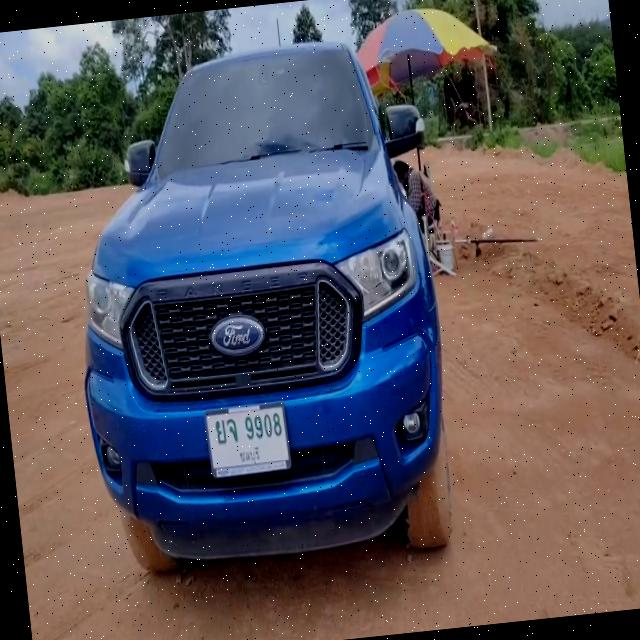Digit: (244, 408, 284, 443)
Licenseplate: (204, 401, 292, 477)
Provincename: (238, 442, 262, 468)
Thaichar: (214, 418, 237, 444)
